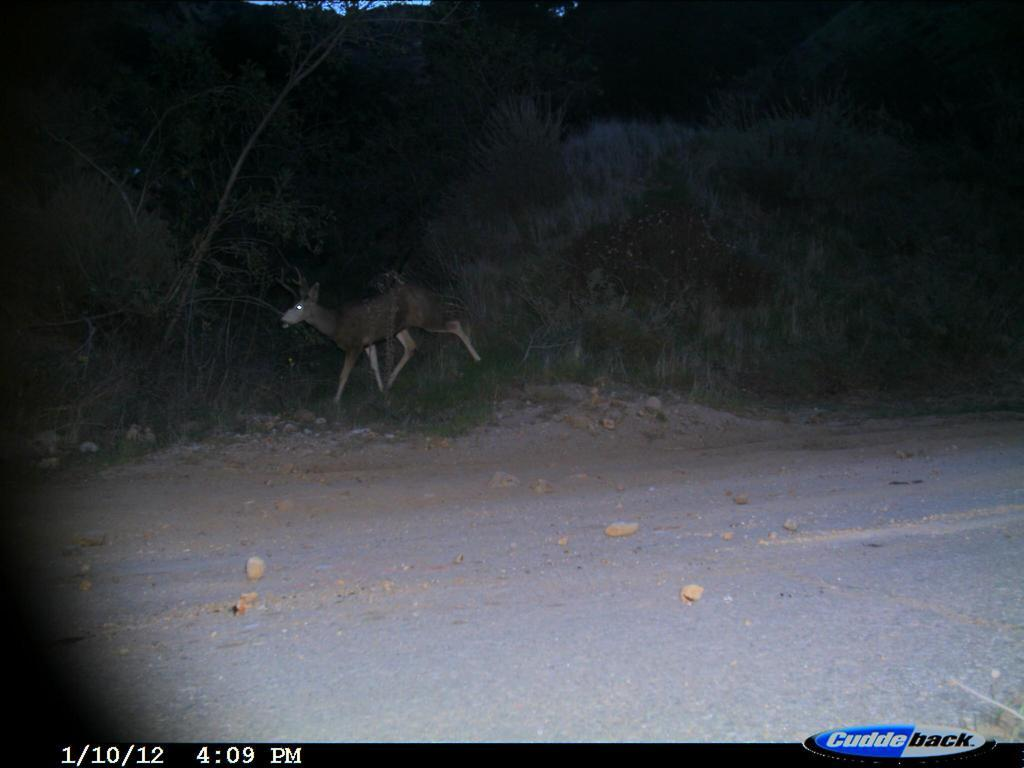deer: (268, 258, 488, 417)
